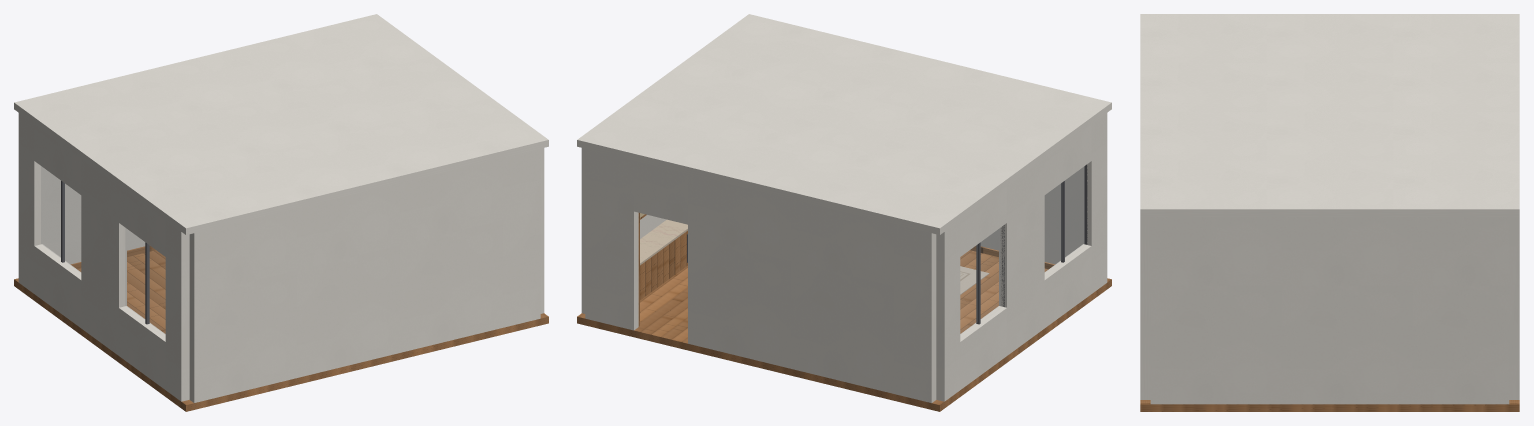
File: modern_3d_villa.glb
3 renders of one model, left to right at view 1: azimuth 30°, elevation 25°; view 2: azimuth 150°, elevation 25°; view 3: azimuth 270°, elevation 25°, orthographic. The views are drawn at different scales.
Visible parts, largest first — view 1: ceiling_plaster, wall_s, wall_w_pier, floor_oak, wall_w_b, wall_w_a, wall_n_a, win1_glass, win2_glass, wall_w_sill1, wall_w_sill2, wall_w_head1 (+2 smaller); view 2: ceiling_plaster, wall_n_a, wall_n_b, floor_oak, wall_w_pier, wall_w_a, wall_w_b, wall_s, win2_glass, wall_n_head, win1_glass, wall_w_sill2 (+6 smaller); view 3: ceiling_plaster, wall_e, floor_oak, wall_s, wall_n_b.
Boxes of the visible parts, x1,y1,x2,y2 form: ceiling_plaster: (14, 14, 548, 234); wall_s: (189, 148, 540, 402); wall_w_pier: (81, 159, 126, 355); floor_oak: (14, 250, 548, 411); wall_w_b: (165, 220, 189, 401); wall_w_a: (18, 113, 42, 293); wall_n_a: (42, 167, 145, 264); win1_glass: (41, 167, 80, 271); win2_glass: (126, 229, 164, 333); wall_w_sill1: (34, 244, 81, 327); wall_w_sill2: (119, 306, 165, 389); wall_w_head1: (34, 124, 81, 194); ceiling_plaster: (577, 14, 1111, 234); wall_n_a: (688, 174, 936, 402); wall_n_b: (585, 148, 638, 330); floor_oak: (577, 250, 1111, 411); wall_w_pier: (999, 159, 1044, 355); wall_w_a: (936, 220, 960, 401); wall_w_b: (1083, 113, 1107, 293); wall_s: (980, 167, 1083, 264); win2_glass: (1045, 167, 1084, 271); wall_n_head: (634, 160, 687, 224); win1_glass: (961, 229, 999, 333); wall_w_sill2: (1044, 244, 1091, 327); ceiling_plaster: (1140, 14, 1519, 216); wall_e: (1150, 217, 1509, 404); floor_oak: (1140, 400, 1519, 411); wall_s: (1140, 217, 1150, 399); wall_n_b: (1509, 217, 1519, 399).
Size of the model in its own units: 6.7 by 3.24 by 5.5.
Materials: 15 (10 with a texture image).
